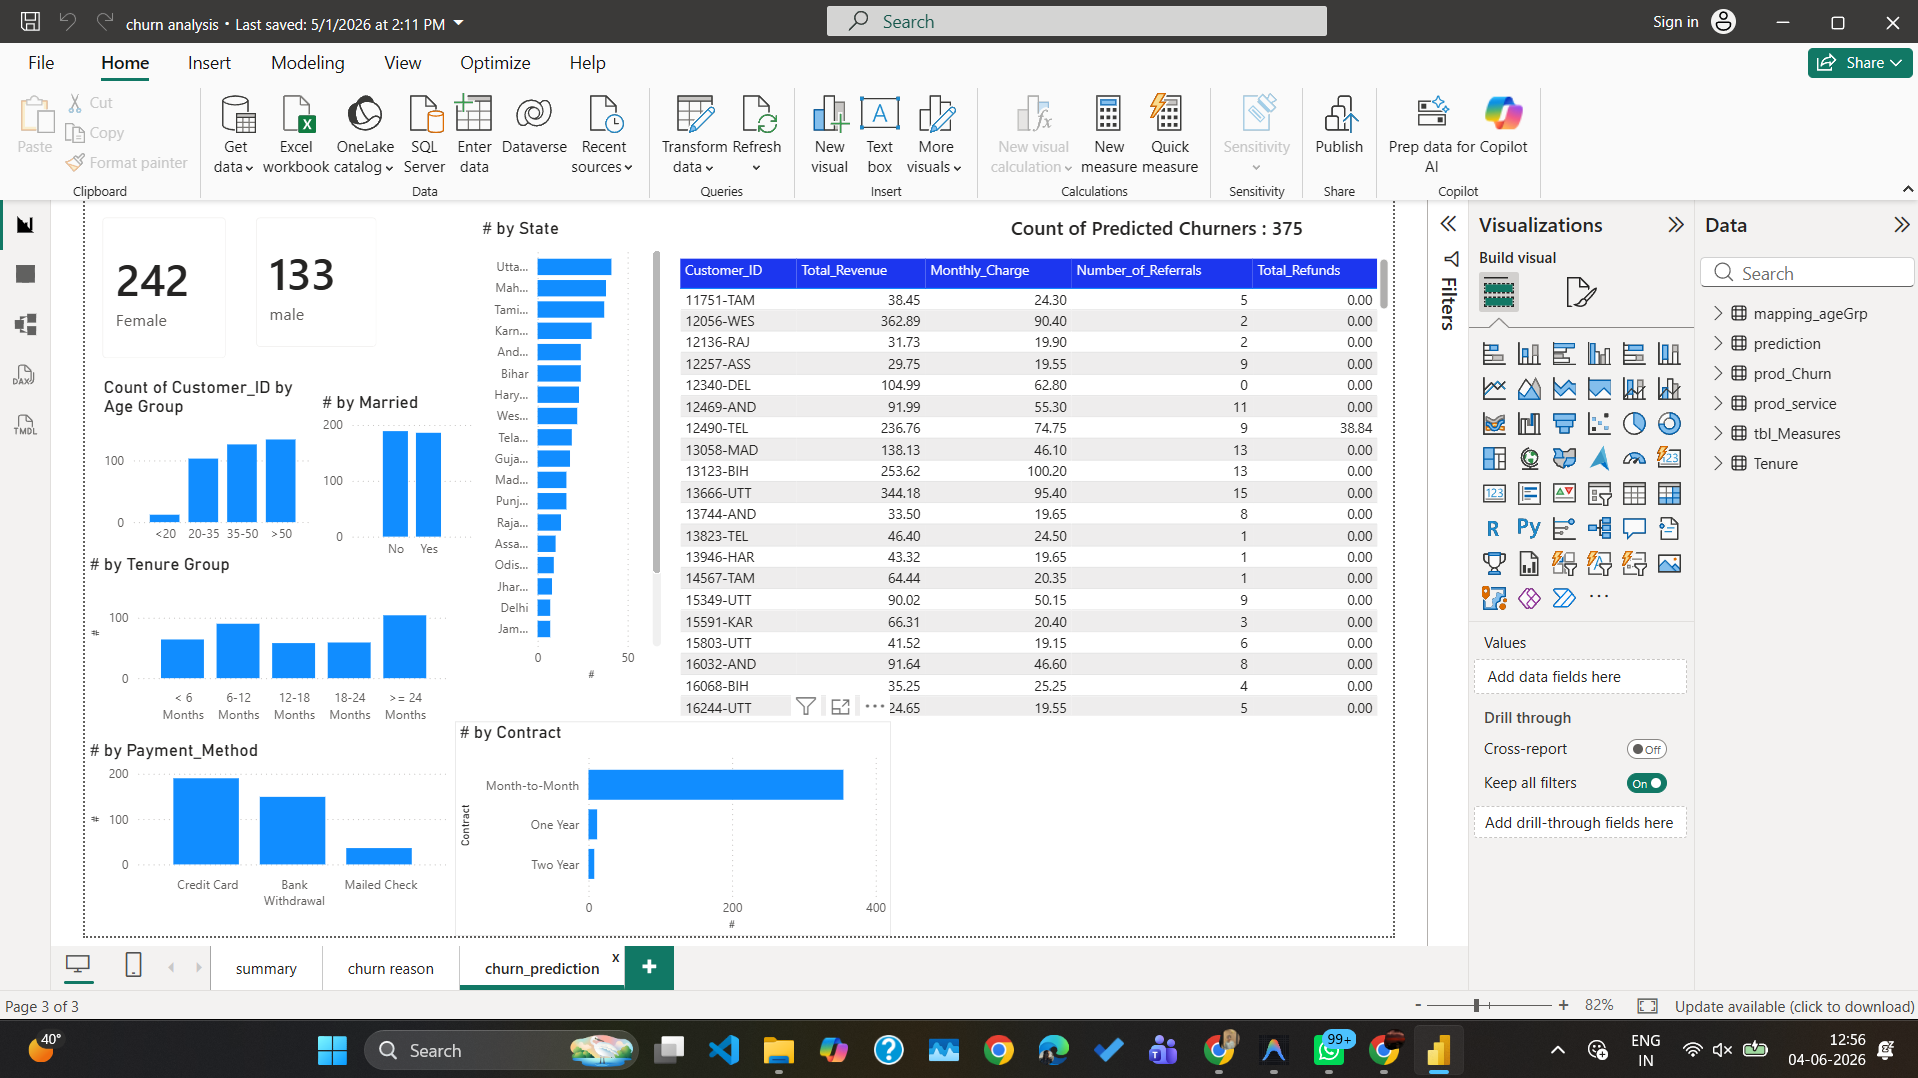

This screenshot's page, from the dashboard's own definition file:
{"tool":"powerbi","page":{"name":"churn_prediction","canvas":[1280,720],"ordinal":2},"visuals":[{"type":"tableEx","fields":{"Values":["prediction.Customer_ID","prediction.Total_Revenue","prediction.Monthly_Charge","prediction.Number_of_Referrals","prediction.Total_Refunds"]},"box":[576,52.6,704.4,457.3],"z":0},{"type":"cardVisual","fields":{"Data":["tbl_Measures.Title Predicted Churner"]},"box":[876.8,0,403.4,52.1],"z":1000},{"type":"cardVisual","fields":{"Data":["tbl_Measures.Count Predicted Churner"]},"box":[0,0,155.1,172.9],"z":2000},{"type":"cardVisual","fields":{"Data":["tbl_Measures.Count Predicted Churner"]},"box":[150.9,0,152.3,161.9],"z":3000},{"type":"clusteredColumnChart","fields":{"Category":["mapping_ageGrp.Age Group"],"Y":["CountNonNull(prediction.Customer_ID)"]},"box":[13.7,172.9,214.1,172.9],"z":4000},{"type":"clusteredColumnChart","fields":{"Category":["prediction.Married"],"Y":["CountNonNull(prediction.Customer_ID)"]},"box":[227.4,187.1,156.5,172.4],"z":5000},{"type":"clusteredColumnChart","fields":{"Y":["CountNonNull(prediction.Customer_ID)"],"Category":["Tenure.Tenure Group"]},"box":[0,345.8,362.3,172.9],"z":6000},{"type":"clusteredColumnChart","fields":{"Y":["CountNonNull(prediction.Customer_ID)"],"Category":["prediction.Payment_Method"]},"box":[0,528.3,362.3,172.9],"z":7000},{"type":"clusteredBarChart","fields":{"Category":["prod_Churn.Contract"],"Y":["CountNonNull(prediction.Customer_ID)"]},"box":[362,509.9,426.8,210.3],"z":8000},{"type":"clusteredBarChart","fields":{"Category":["prediction.State"],"Y":["CountNonNull(prediction.Customer_ID)"]},"box":[384,17.1,184.6,458.6],"z":9000}]}

Visuals, with their boxes on the page's 1280x720 design canvas (x1, y1, x2, y2). These are canvas units, not pixel positions in the 1918x1078 screenshot, which may show the page scaled, cropped or inside an application window:
tableEx - prediction.Customer_ID x prediction.Total_Revenue: 576, 53, 1280, 510
cardVisual - tbl_Measures.Title Predicted Churner: 877, 0, 1280, 52
cardVisual - tbl_Measures.Count Predicted Churner: 0, 0, 155, 173
cardVisual - tbl_Measures.Count Predicted Churner: 151, 0, 303, 162
clusteredColumnChart - mapping_ageGrp.Age Group x CountNonNull(prediction.Customer_ID): 14, 173, 228, 346
clusteredColumnChart - prediction.Married x CountNonNull(prediction.Customer_ID): 227, 187, 384, 360
clusteredColumnChart - CountNonNull(prediction.Customer_ID) x Tenure.Tenure Group: 0, 346, 362, 519
clusteredColumnChart - CountNonNull(prediction.Customer_ID) x prediction.Payment_Method: 0, 528, 362, 701
clusteredBarChart - prod_Churn.Contract x CountNonNull(prediction.Customer_ID): 362, 510, 789, 720
clusteredBarChart - prediction.State x CountNonNull(prediction.Customer_ID): 384, 17, 569, 476
